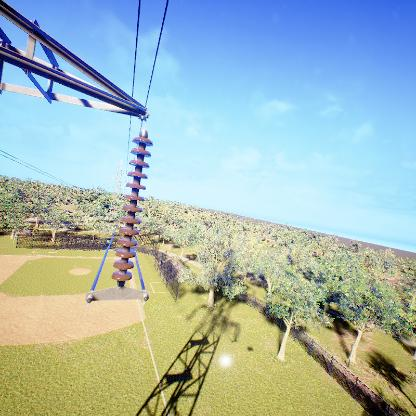insulator: (108, 134, 155, 286)
